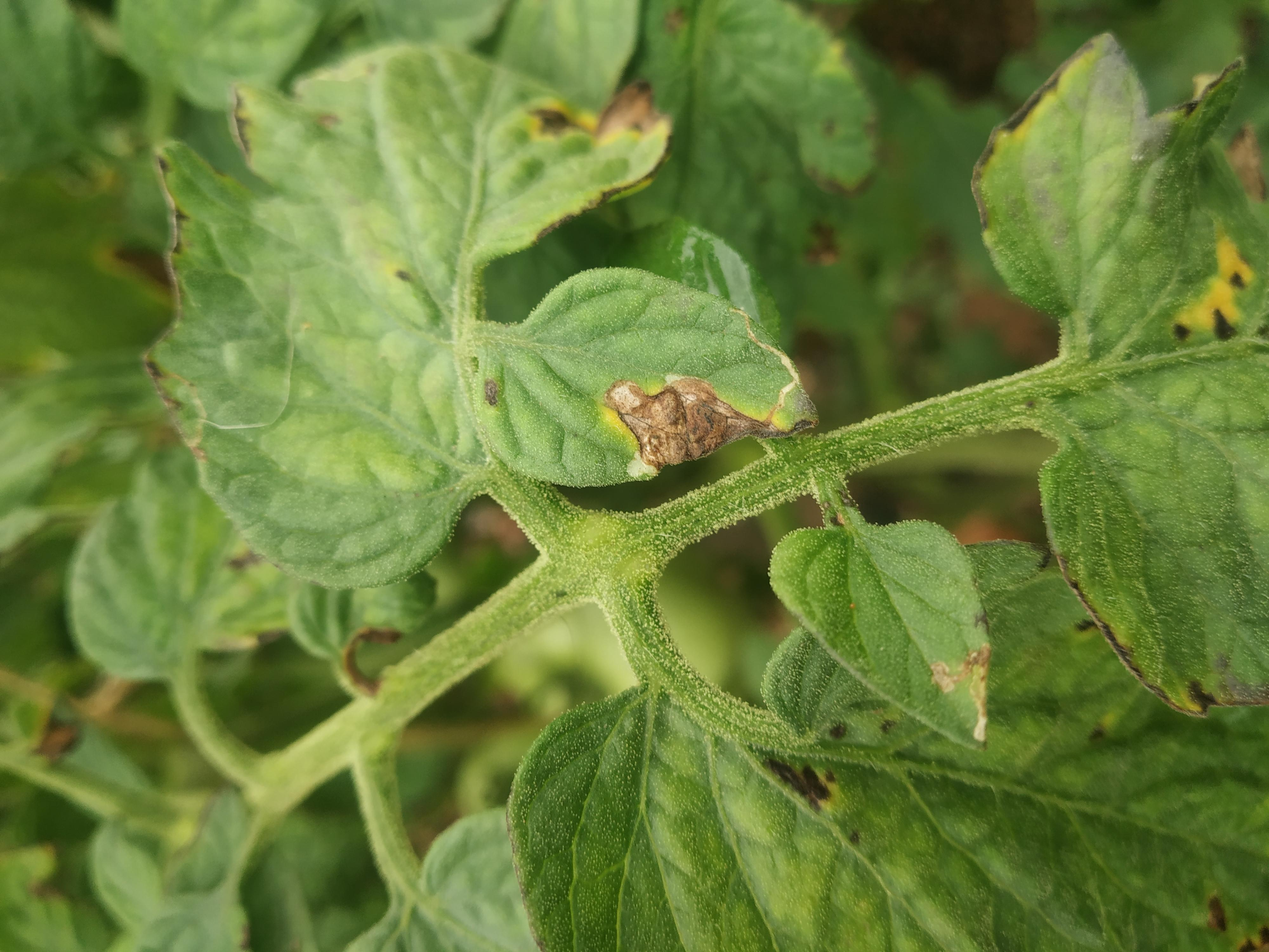Early Blight: (495, 105, 1227, 516), (612, 342, 921, 629)
